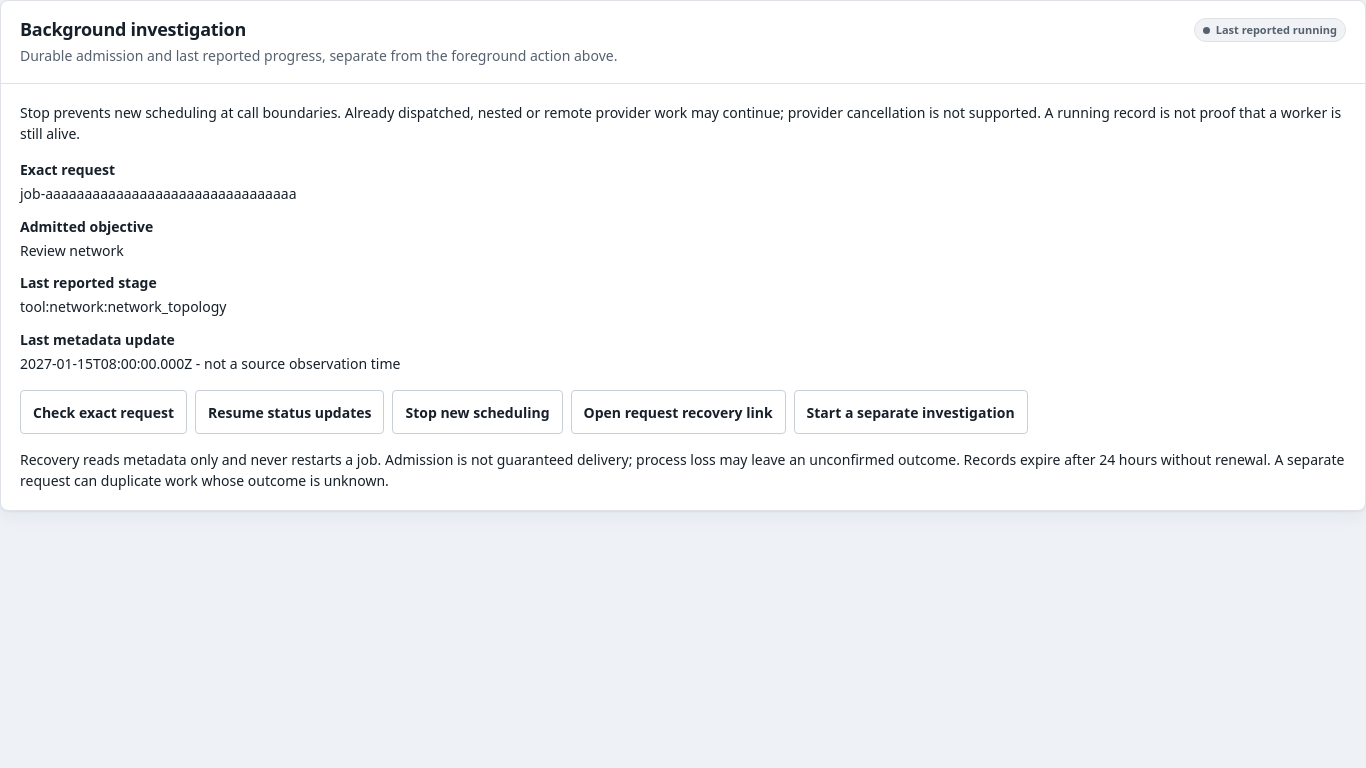
Test: Durable background investigation control › distinguishes stop request from stopped scheduling and never claims remote cancellation
The image size is (1366, 768).
Expected: the text "Last reported running" is shown, [1194,18,1346,42]
Click the button "Stop new scheduling" at x=478, y=412, box [392,390,563,434]
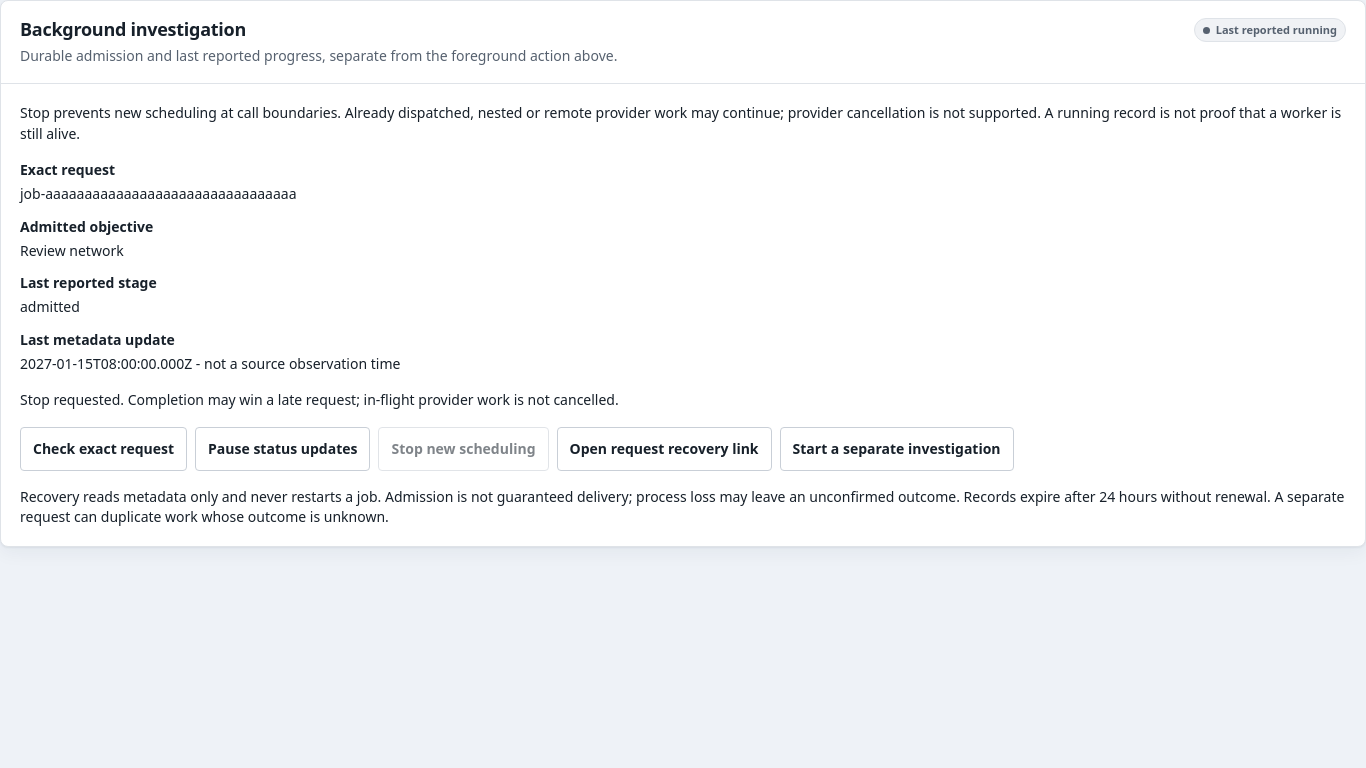
Now the text "Stop requested. Completion may win" is shown, box [20,390,619,409]
Now the button "Stop new scheduling" is disabled, box [378,427,549,471]
Click the button "Check exact request" at x=104, y=449, box [20,427,187,471]
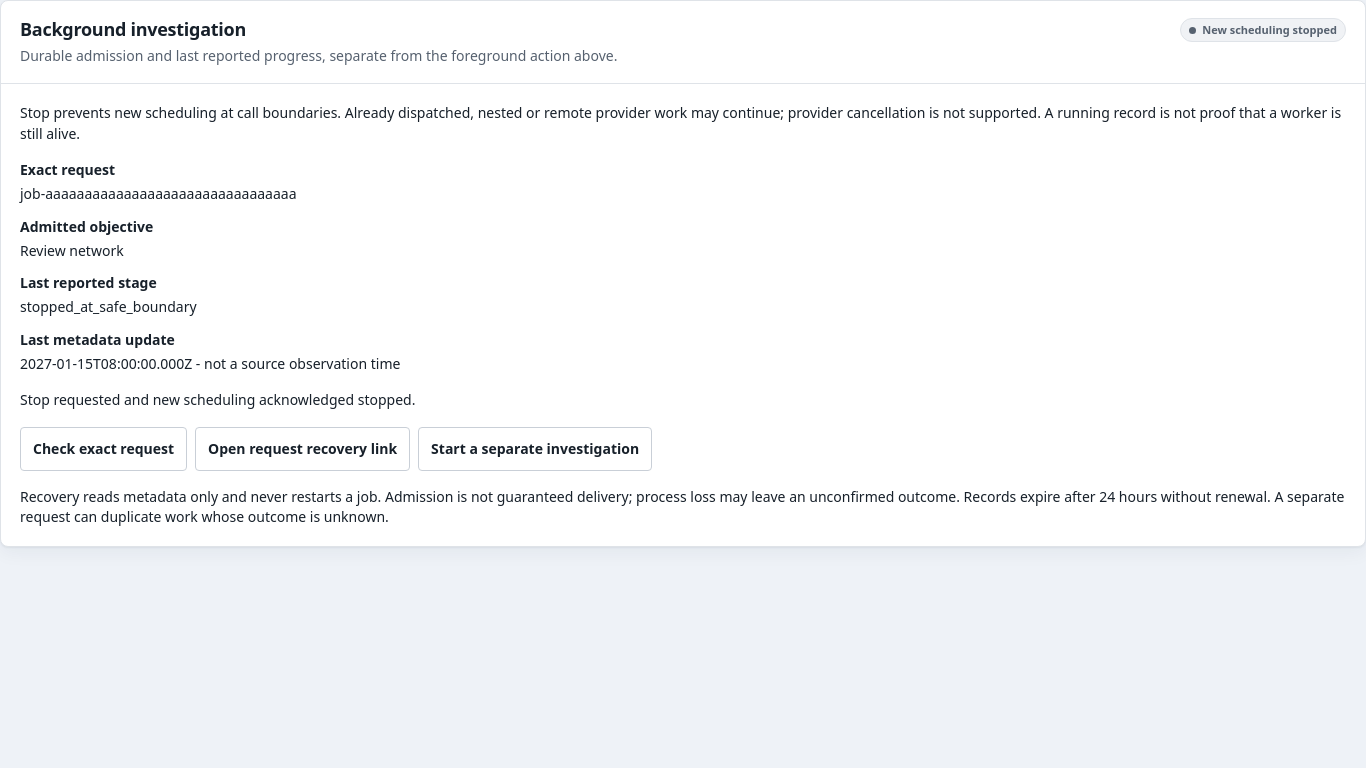
Now the text "New scheduling stopped" is shown, box [1180,18,1346,42]
Now the text "Stop requested and new scheduling acknowledged stopped." is shown, box [20,390,416,409]
